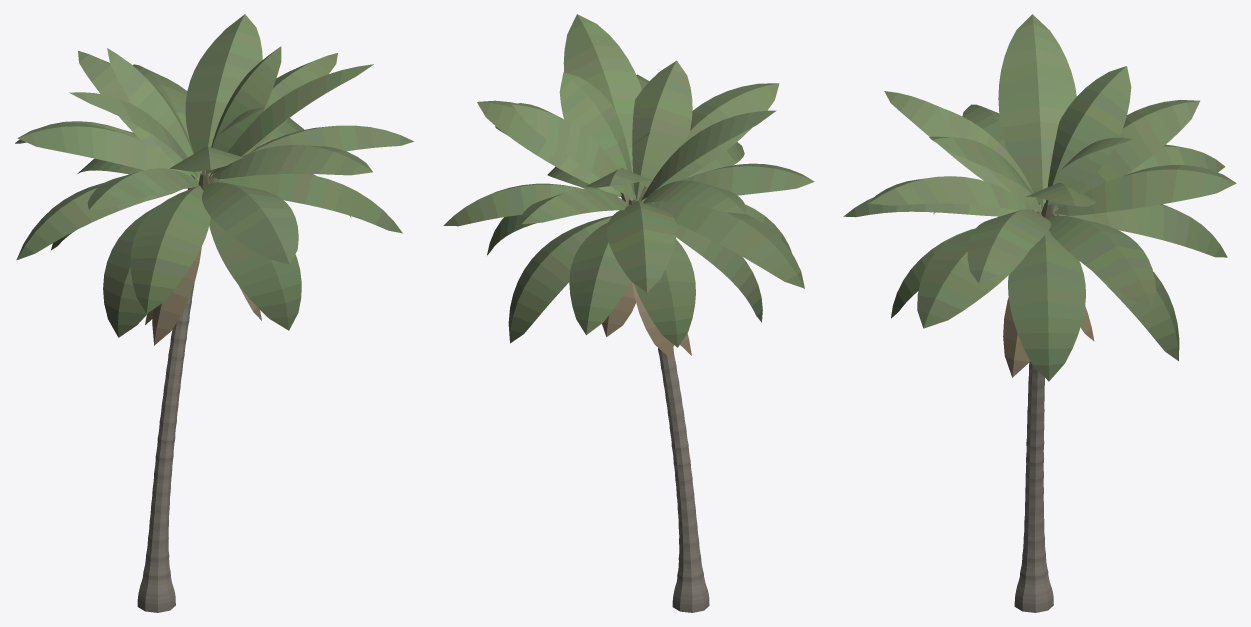
File: palma_inclinada.glb
3 views of the same model, side by side, from view 1: azimuth 30°, elevation 25°; view 2: azimuth 150°, elevation 25°; view 3: azimuth 270°, elevation 25° (orthographic). The views are drawn at different scales.
Parts seen in each view (by area): view 1: palma; view 2: palma; view 3: palma.
Part boxes in pixels (<box>): palma: <box>15,14,414,612</box>; palma: <box>443,14,814,612</box>; palma: <box>843,14,1236,612</box>.
Size of the model in its own units: 8.65 by 12.29 by 8.
